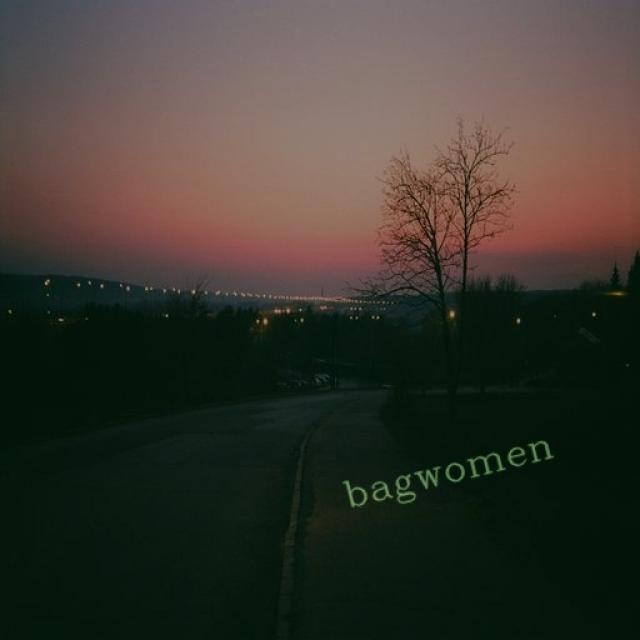watermark: (337, 428, 555, 514)
